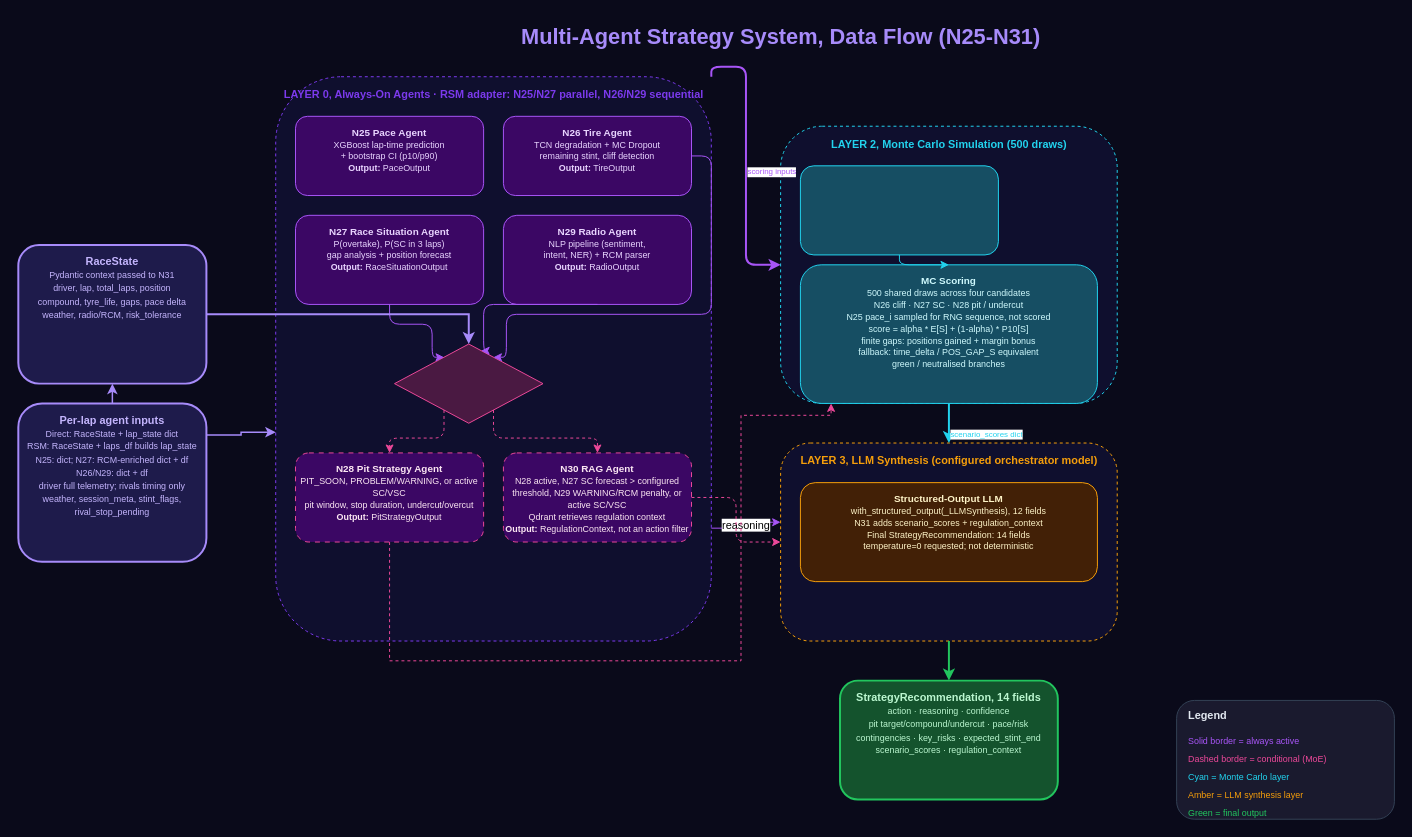
This 1412x837 diagram has some shape labels left out. The shapes that lost their labels are listed below. From the top down, each one's centre as x and y in pixels, then its label:
(x=898, y=210): 4 Strategy Candidates 1. STAY_OUT 2. PIT_NOW 3. UNDERCUT 4. OVERCUT
(x=468, y=383): MoE Routing deterministic if-else rules
